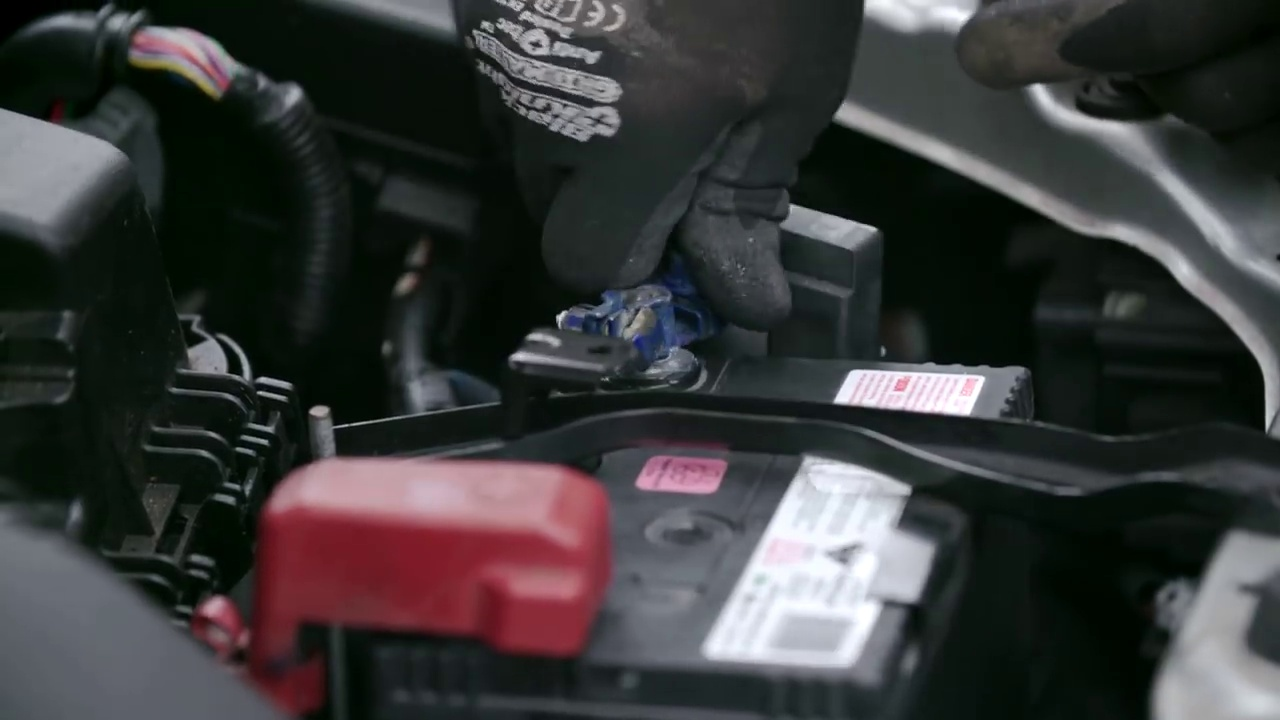battery: (350, 323, 1032, 690)
neg_touched: (518, 213, 796, 381)
pos_connected: (213, 430, 651, 677)
